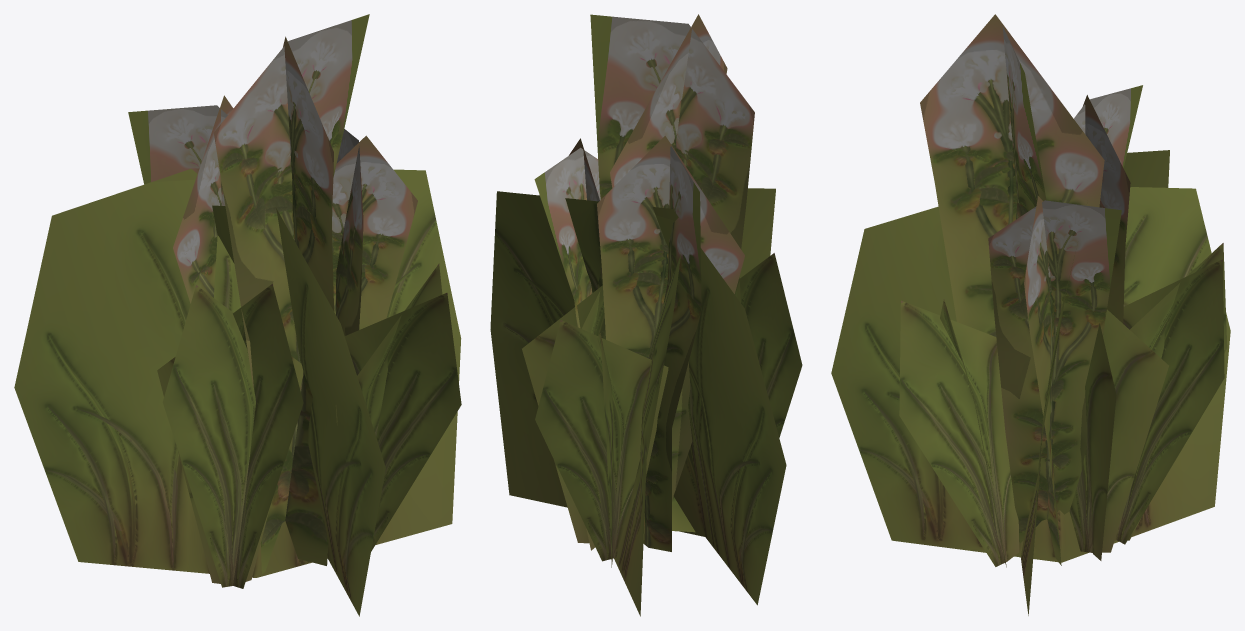
The model's file is grassPatch10lod0.dae.
3 views of the same model, side by side, from view 1: azimuth 30°, elevation 25°; view 2: azimuth 150°, elevation 25°; view 3: azimuth 270°, elevation 25° (orthographic). The views are drawn at different scales.
Visible parts, largest first — view 1: SM_Grass_Patch_10_LOD; view 2: SM_Grass_Patch_10_LOD; view 3: SM_Grass_Patch_10_LOD.
Boxes of the visible parts, <box> form: SM_Grass_Patch_10_LOD: <box>14,14,461,616</box>; SM_Grass_Patch_10_LOD: <box>490,14,802,616</box>; SM_Grass_Patch_10_LOD: <box>831,14,1230,615</box>.
Size of the model in its own units: 0.8025 by 1.1 by 0.7672.
Materials: 1 (1 with a texture image).
